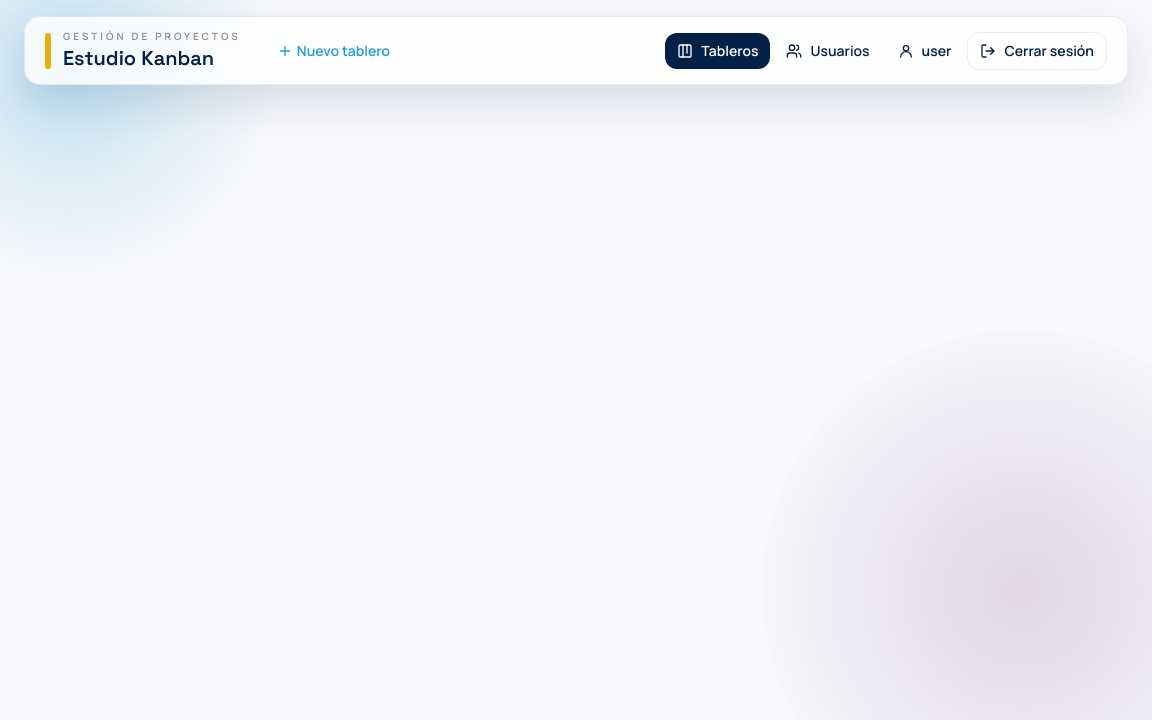
Test: Home › restores an existing session and logs out through the API
This screenshot has width=1152, height=720.
Click the button "Cerrar sesión".
click(1037, 50)  # box [967,32,1107,70]
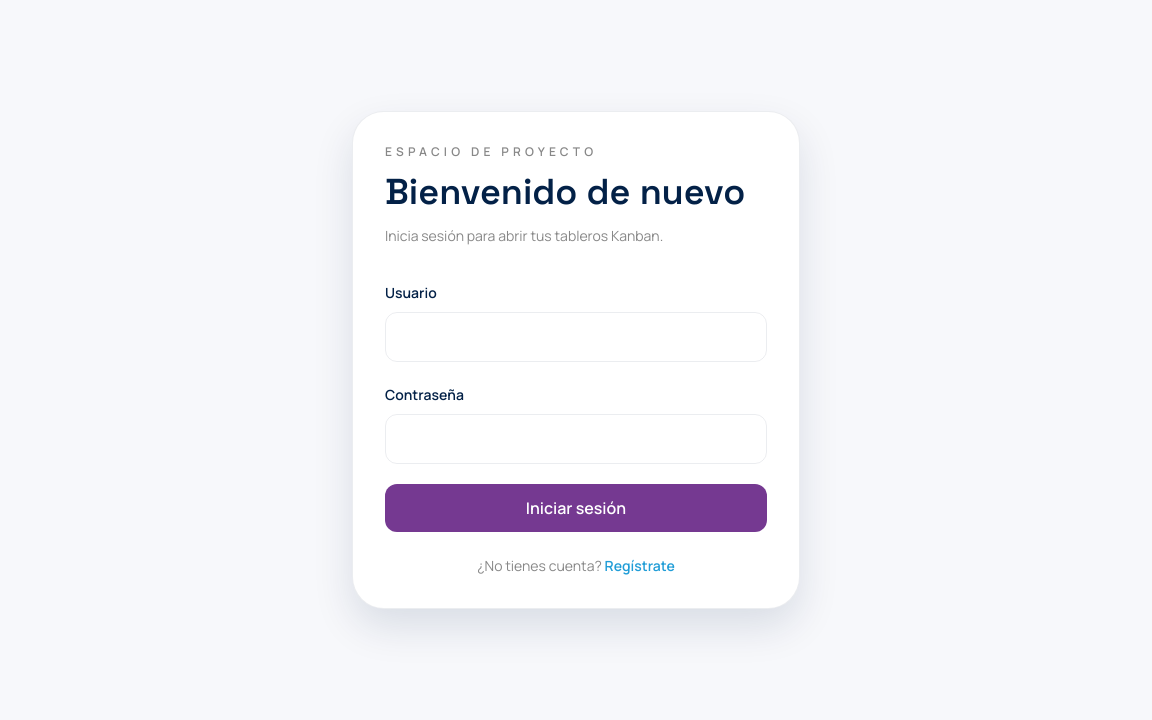
Expected: the button "Iniciar sesión" is shown, [385,484,767,532]
